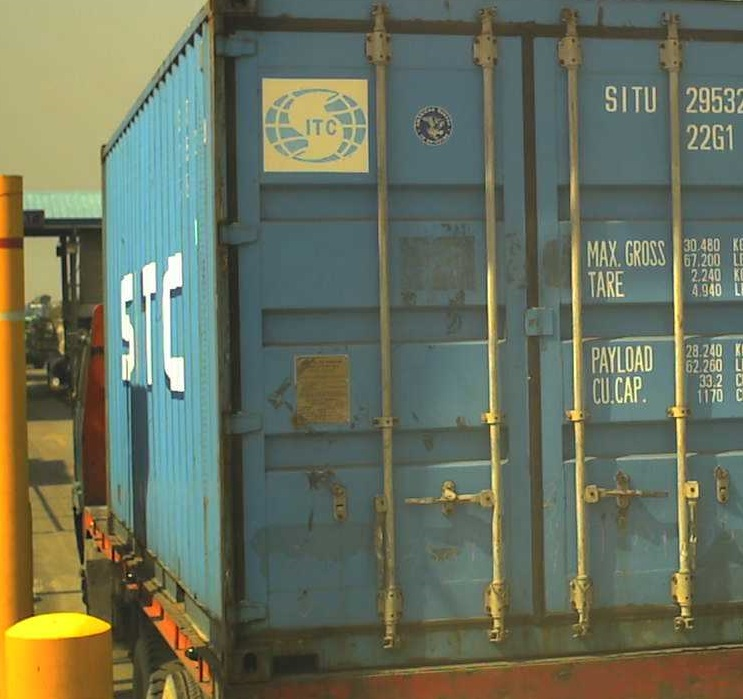container_door: (209, 2, 725, 677)
